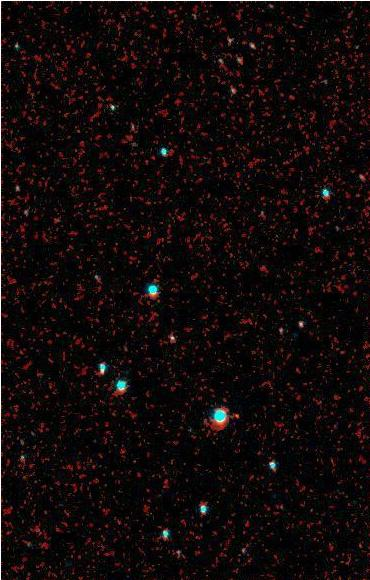star: (224, 406, 254, 436)
